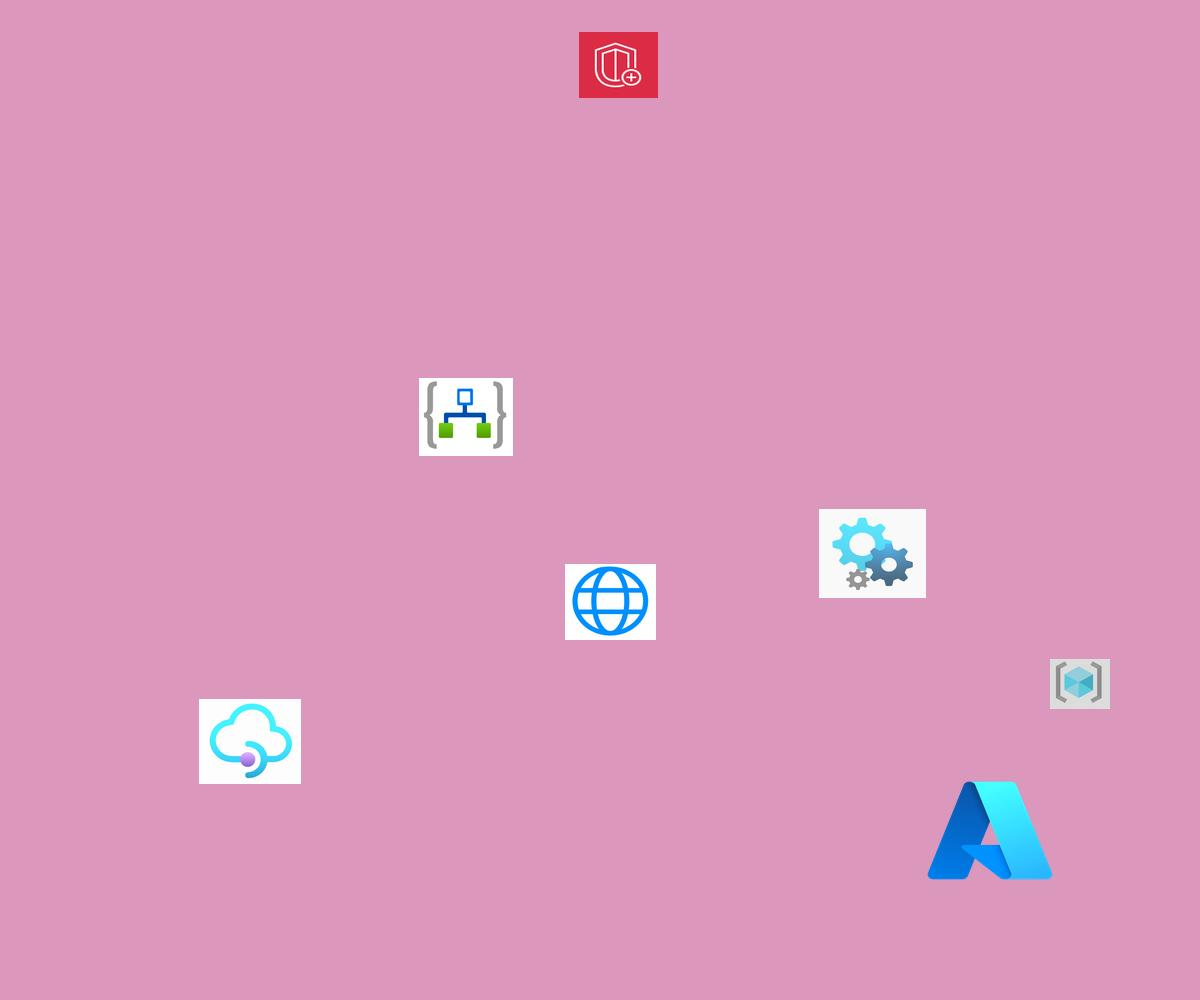AWS-Shield: (579, 32, 658, 98)
Azure_api: (819, 509, 926, 598)
Azure_api_gateway: (199, 699, 301, 784)
Azure_http: (565, 564, 656, 640)
Azure_integration-204-Logic-Apps: (419, 378, 513, 456)
Azure_resource_group: (1050, 659, 1110, 709)
Azure_services: (922, 774, 1058, 887)
